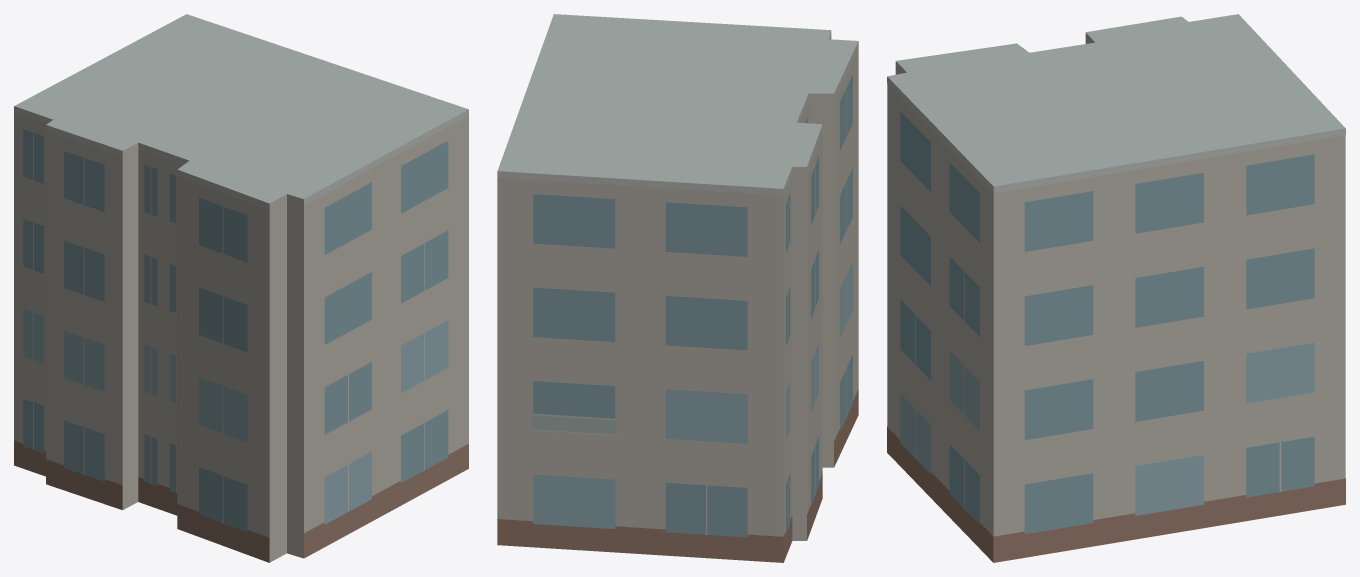
Rendered from survey-upis-32857344.glb.
The picture shows the model from 3 angles, left to right: view 1: azimuth 30°, elevation 25°; view 2: azimuth 150°, elevation 25°; view 3: azimuth 270°, elevation 25°; orthographic projection. The views are drawn at different scales.
Parts seen in each view (by area): view 1: survey-upis-32857344.tmp; view 2: survey-upis-32857344.tmp; view 3: survey-upis-32857344.tmp.
Part boxes in pixels (x1,y1,x2,y2): survey-upis-32857344.tmp: (14,14,468,562); survey-upis-32857344.tmp: (497,14,858,562); survey-upis-32857344.tmp: (887,14,1345,562).
Bounding box in the file's own units: 13.29 × 13.5 × 14.92.
